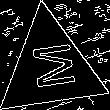M_W: (24, 41, 77, 94)
